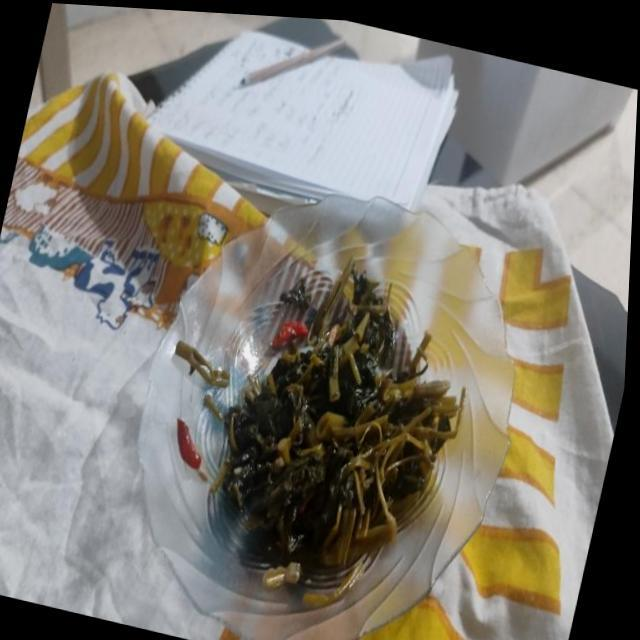tumis_kangkung: (215, 263, 464, 586)
